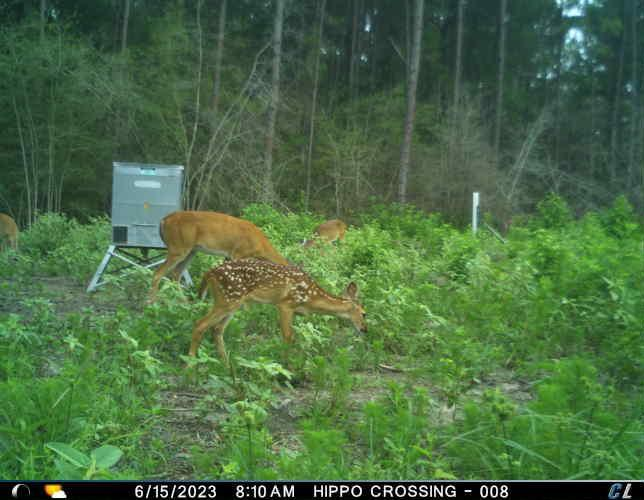Deer: (186, 253, 373, 367), (149, 207, 291, 299), (300, 216, 348, 252), (0, 212, 23, 264)
